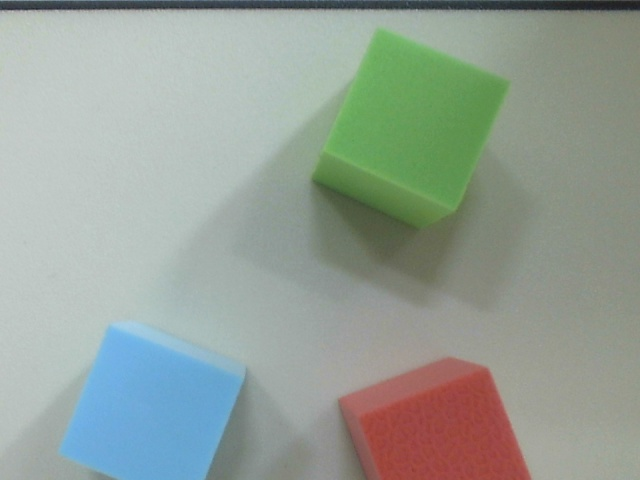greencube: (306, 29, 523, 231)
